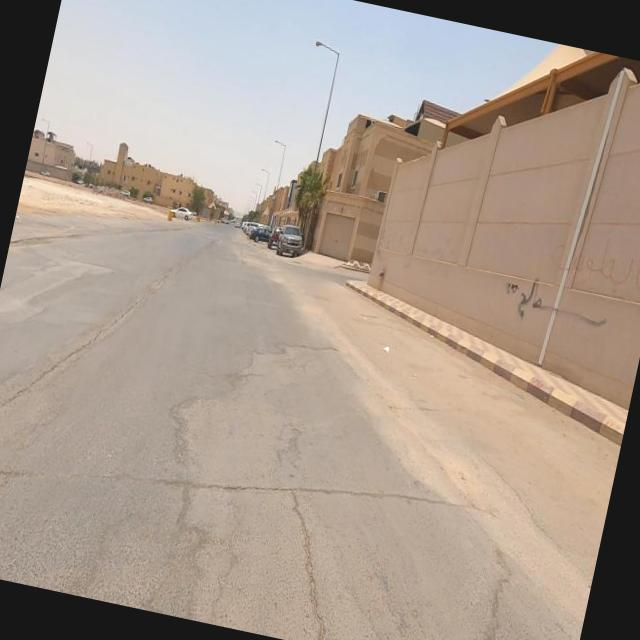debris: (420, 219, 640, 393), (497, 190, 640, 327)
